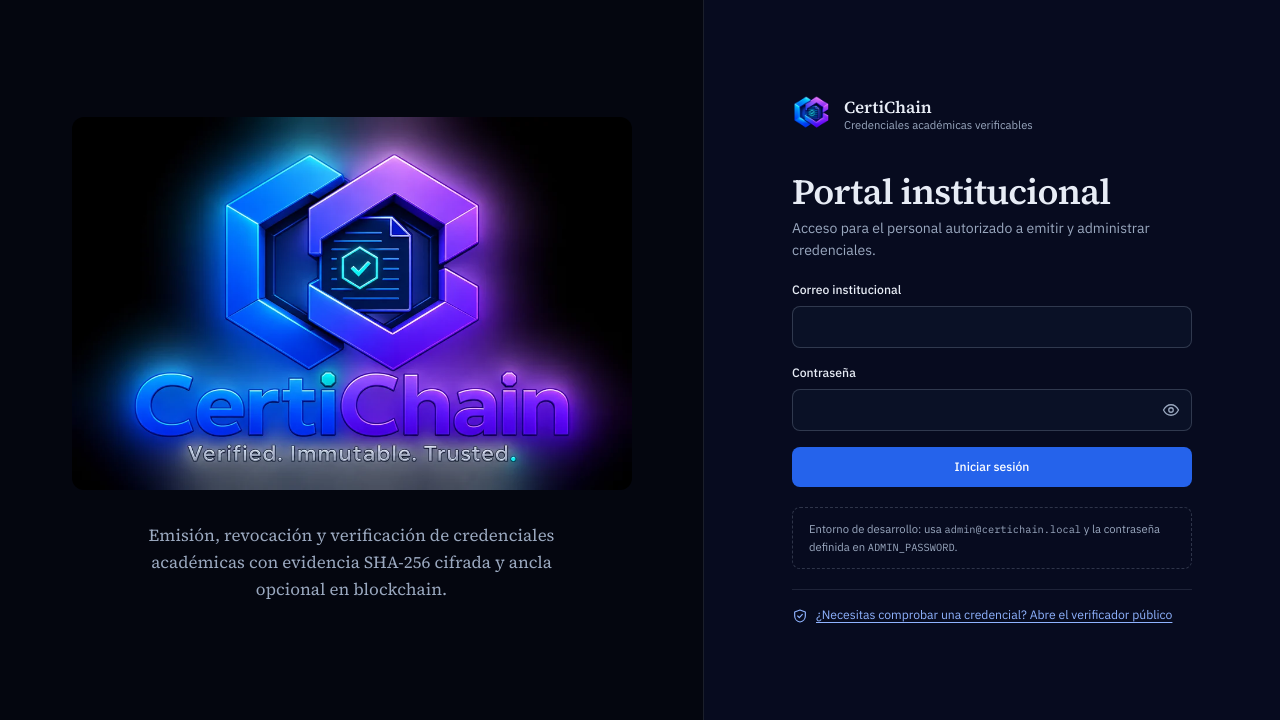
login and session › explains rate limiting and network failures
Type "admin@certichain.local" into the field labelled "Correo institucional".
click(992, 327); type("admin@certichain.local")  # box [792, 306, 1192, 348]
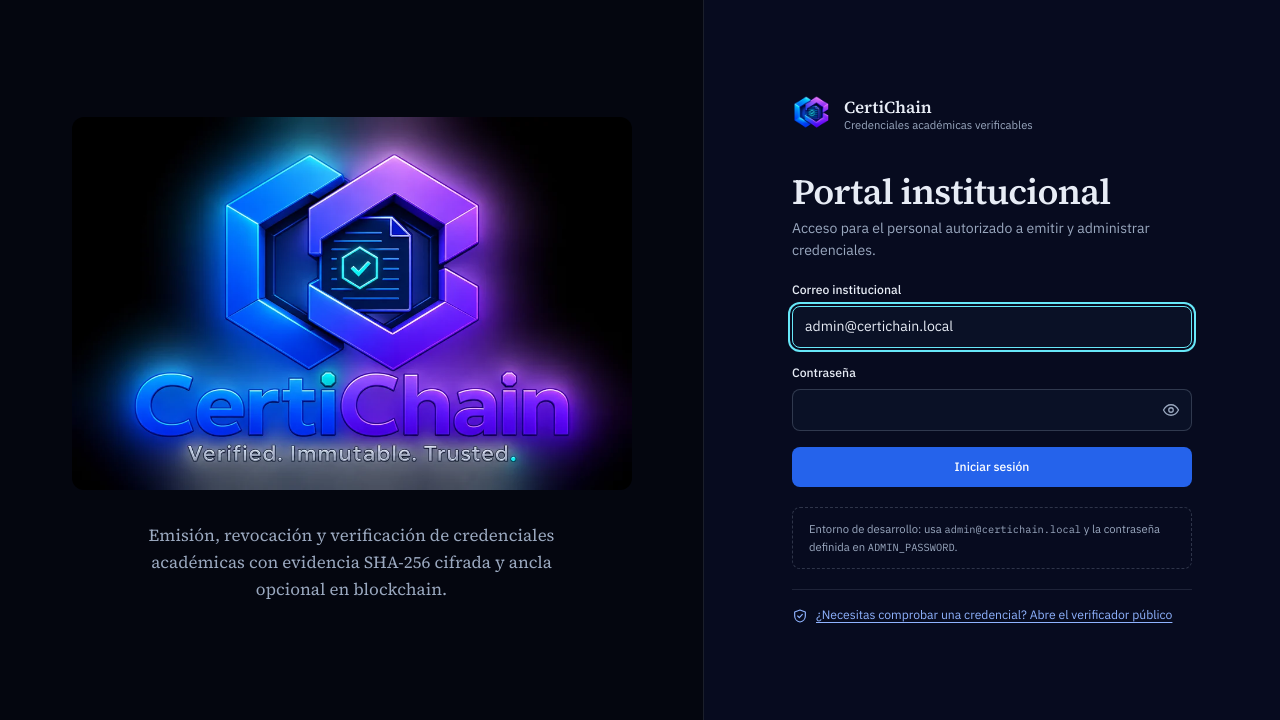
Type "CertiChain123!" into the password field labelled "Contraseña".
click(992, 410); type("CertiChain123!")  # box [792, 389, 1192, 431]
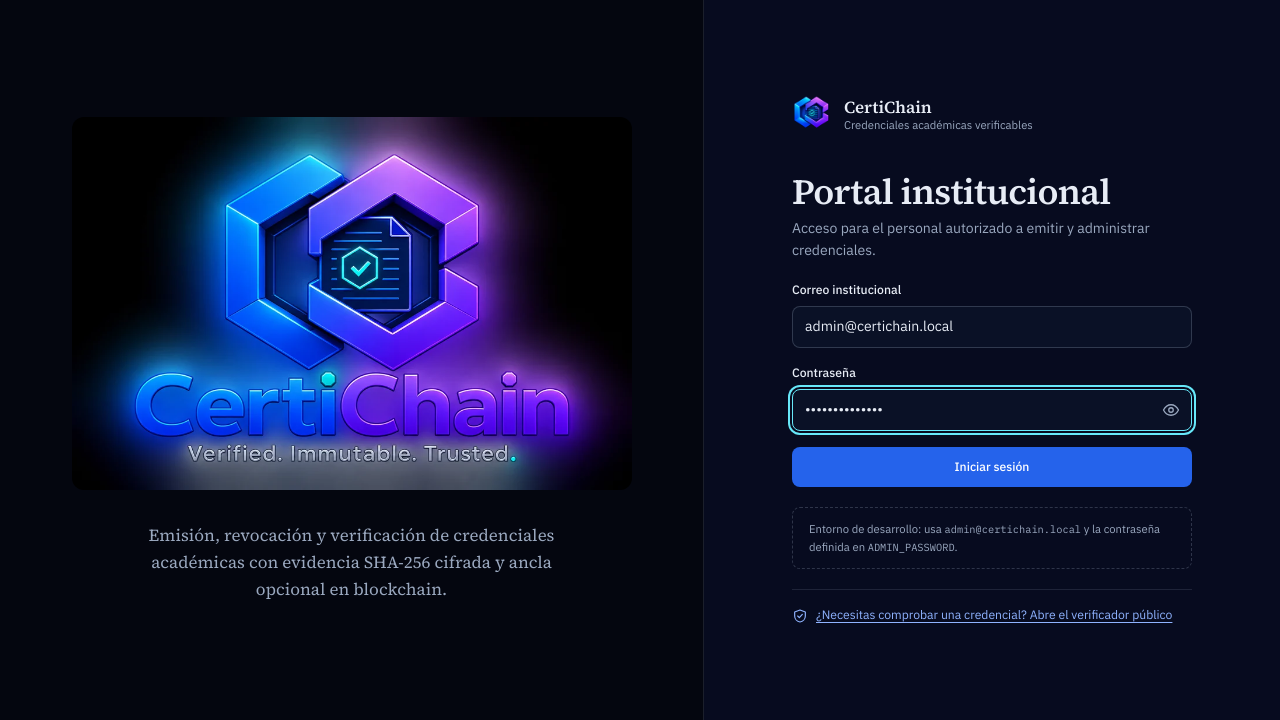
Click the button "Iniciar sesión".
click(992, 467)  # box [792, 447, 1192, 487]
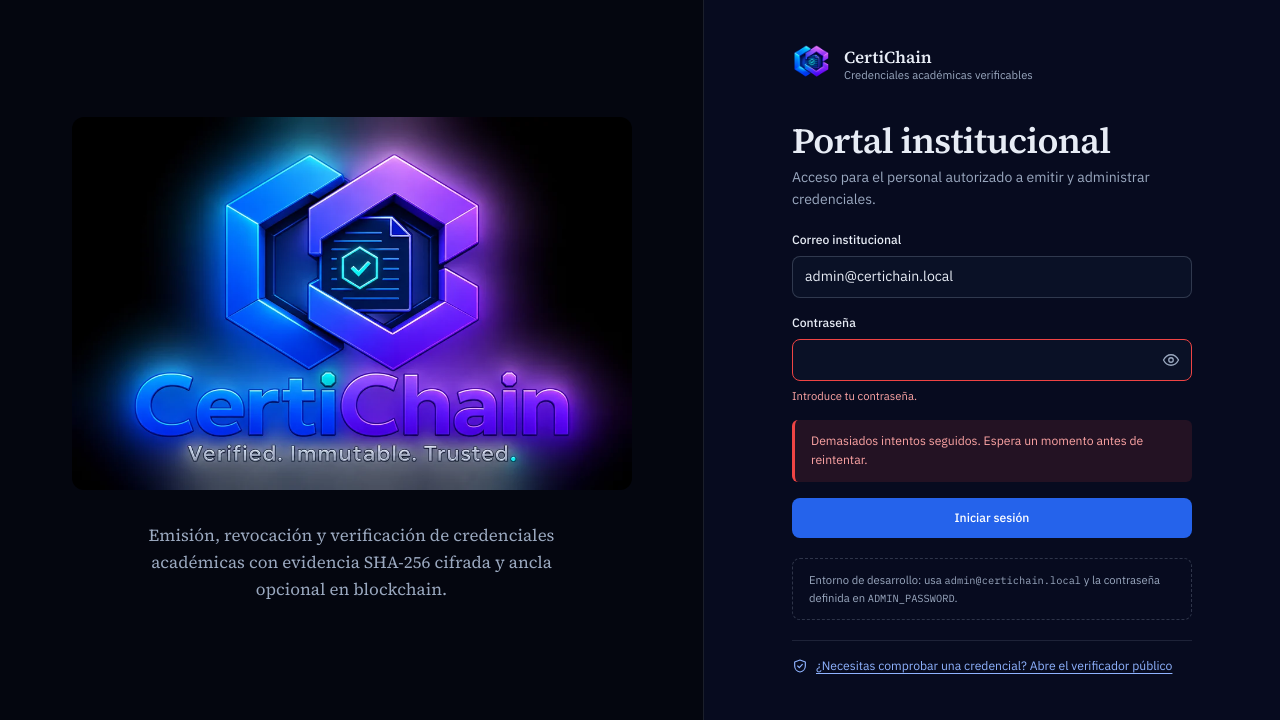
expect the message shows "Demasiados intentos": met, box [811, 433, 1143, 467]
